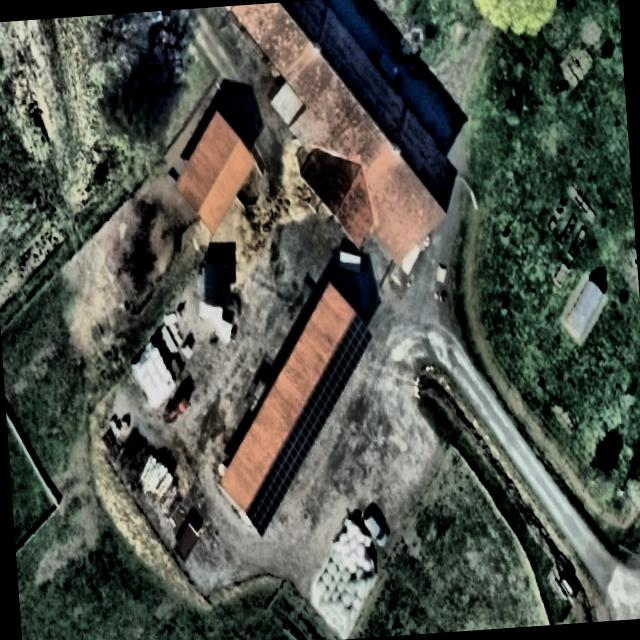roof_pv: (270, 413, 306, 513), (320, 331, 350, 422), (296, 367, 328, 451), (242, 467, 276, 542), (343, 306, 377, 376)
